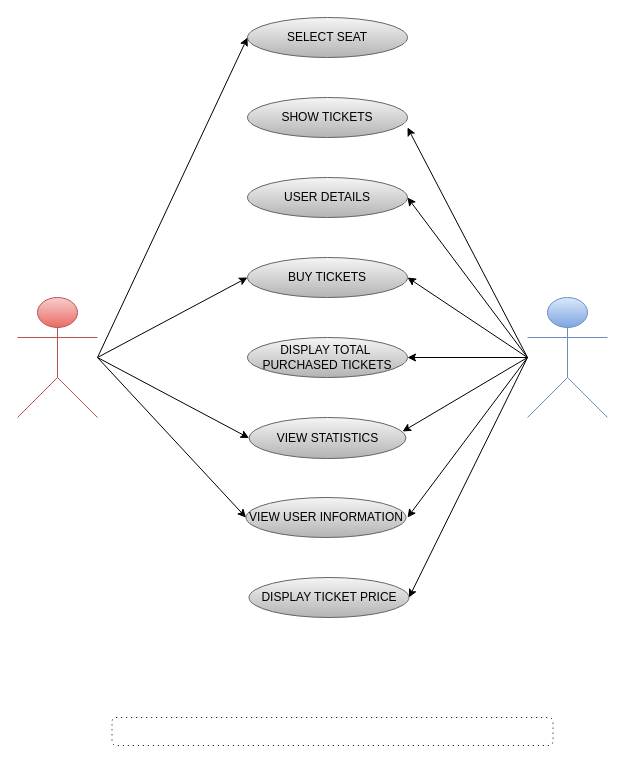
This 625x763 diagram has some shape labels left out. The centre of each missing label's shape, as x and y in pixels:
"SYSTEM" belongs at pixel 567 357.
"USE CASE DIAGRAM - MOVIE TICKET BOOKING SYSTEM" belongs at pixel 332 731.
"USER" belongs at pixel 57 357.
